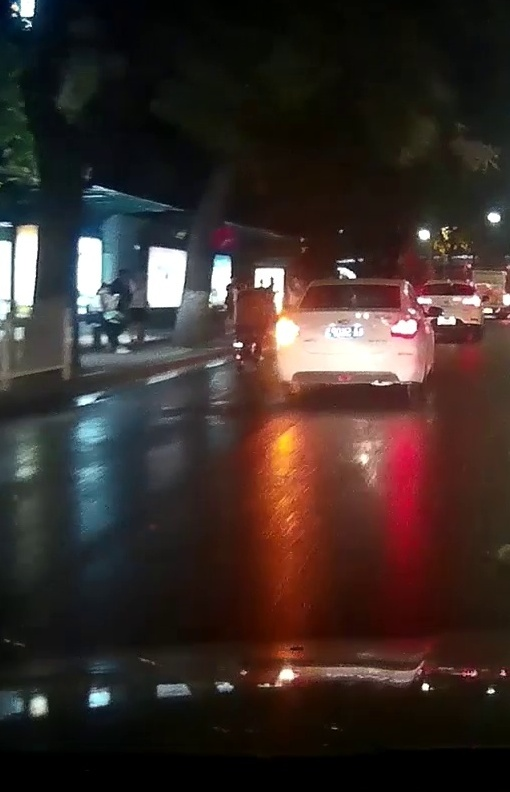L_light: (276, 320, 301, 340)
R_light: (390, 319, 418, 339)
T_light: (346, 284, 366, 288)
night-left: (275, 277, 424, 402)
